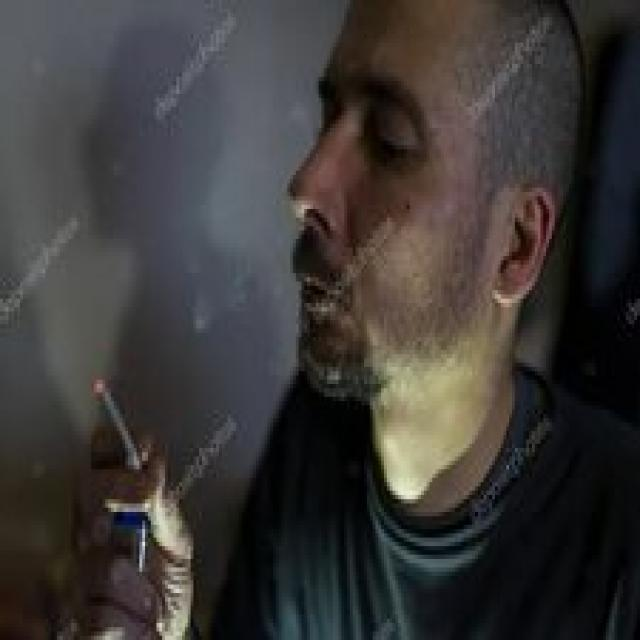cigarette: (88, 367, 157, 474)
